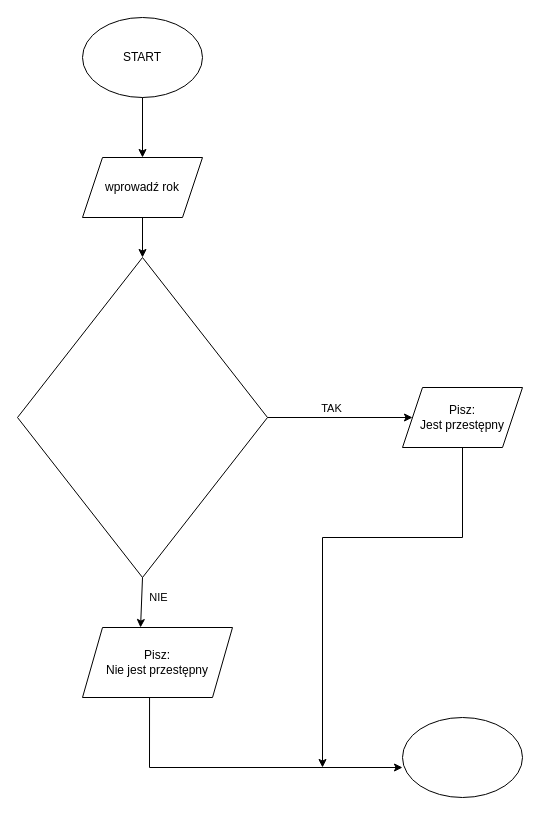
Some shapes in this 540 by 815 pixel diagram are drawn without their labels. The box of each missing label's shape, as (x1, y1, x2, y2) in pixels:
(rok % 4 == 0) && ((rok % 100 != 0) || (rok % 400 == 0)): (16, 256, 268, 578)
KONIEC: (402, 716, 522, 798)
